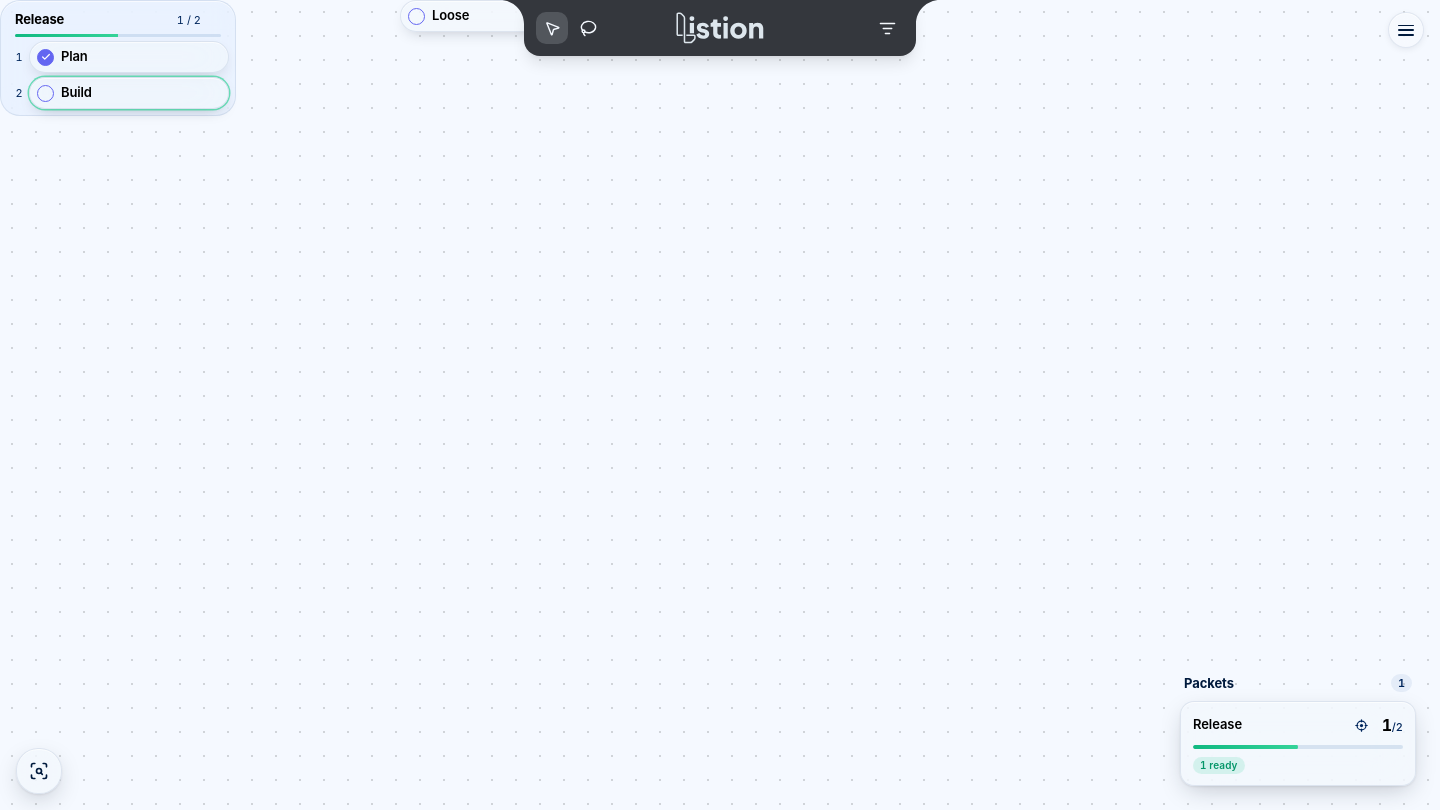
LWorkspace › Doppelklick auf eine freie Fläche öffnet „New Bits“, auf einer Kapsel nicht
The image size is (1440, 810).
Double-click the button "Plan" at x=129, y=57, box x1=29 y1=41 x2=229 y2=73
Check: the text "New Bit" is not shown
Double-click the element showing "Release 1 / 2 1 Plan 2 Build Loose" at x=720, y=405, box x1=0 y1=0 x2=1439 y2=809
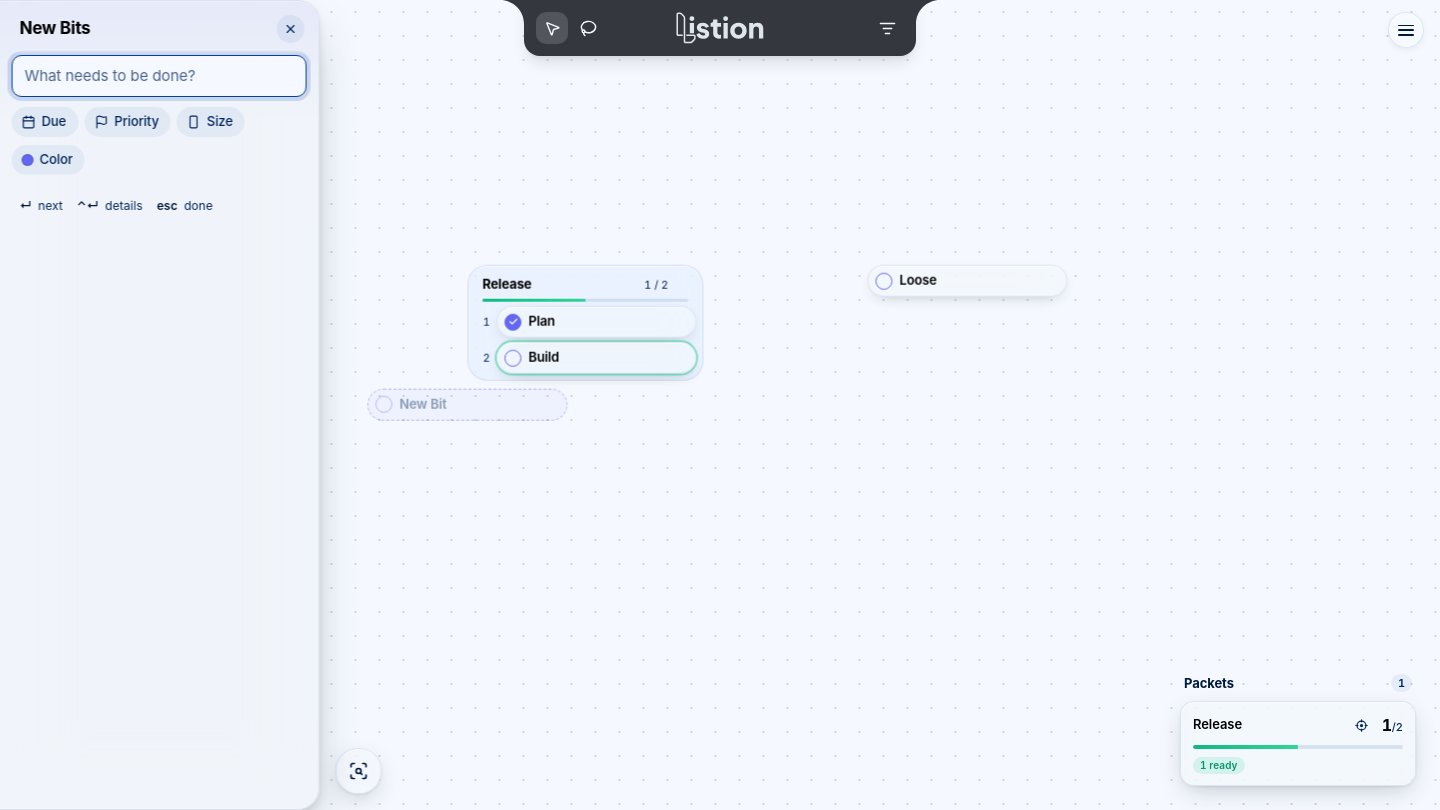
Check: the text "New Bit" is shown, box x1=20 y1=18 x2=90 y2=38
